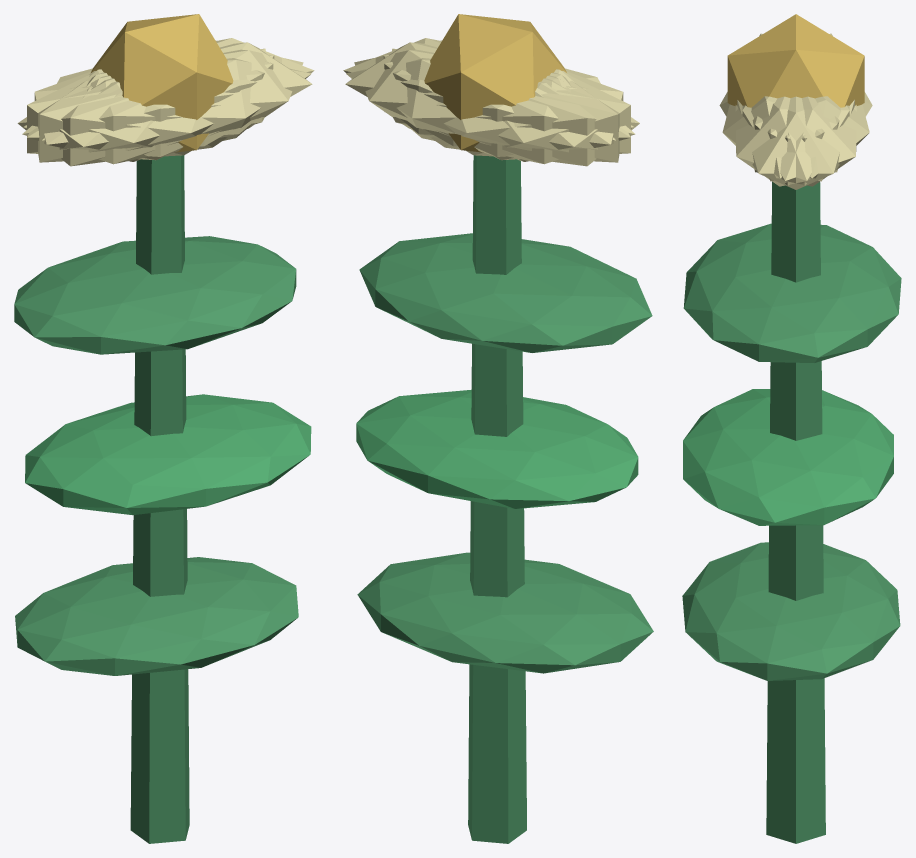
Rendered from deeringia-amaranthoides.glb.
The picture shows the model from 3 angles, left to right: view 1: azimuth 30°, elevation 25°; view 2: azimuth 150°, elevation 25°; view 3: azimuth 270°, elevation 25°; orthographic projection.
Parts seen in each view (by area): view 1: stem, leaf1, leaf2, leaf0, center, petal1, petal6, petal2, petal5, petal7, petal0, petal4 (+2 smaller); view 2: stem, leaf2, leaf0, leaf1, center, petal8, petal3, petal7, petal4, petal2, petal0, petal5 (+2 smaller); view 3: stem, leaf2, leaf1, leaf0, center, petal0, petal4, petal5, petal8, petal1.
Part boxes in pixels (x1,y1,x2,y2): stem: [130, 155, 189, 843]; leaf1: [25, 394, 311, 515]; leaf2: [14, 236, 296, 354]; leaf0: [15, 557, 298, 675]; center: [91, 14, 233, 152]; petal1: [22, 58, 311, 164]; petal6: [17, 71, 227, 166]; petal2: [38, 48, 265, 162]; petal5: [42, 49, 303, 156]; petal7: [27, 55, 274, 160]; petal0: [90, 42, 312, 146]; petal4: [23, 38, 314, 137]; stem: [468, 155, 526, 843]; leaf2: [359, 233, 652, 352]; leaf0: [357, 552, 653, 673]; leaf1: [356, 389, 638, 508]; center: [424, 14, 566, 152]; petal8: [346, 58, 635, 164]; petal3: [430, 71, 639, 166]; petal7: [392, 48, 619, 162]; petal4: [354, 49, 615, 156]; petal2: [383, 55, 630, 160]; petal0: [345, 42, 567, 146]; petal5: [343, 38, 633, 137]; stem: [766, 181, 825, 843]; leaf2: [683, 223, 901, 362]; leaf1: [683, 389, 893, 525]; leaf0: [682, 542, 900, 680]; center: [727, 14, 864, 107]; petal0: [737, 96, 854, 189]; petal4: [742, 96, 856, 186]; petal5: [735, 96, 849, 186]; petal8: [752, 96, 869, 178]; petal1: [722, 96, 839, 178].
Bounding box in the file's own units: 0.1474 × 0.3939 × 0.0979.
